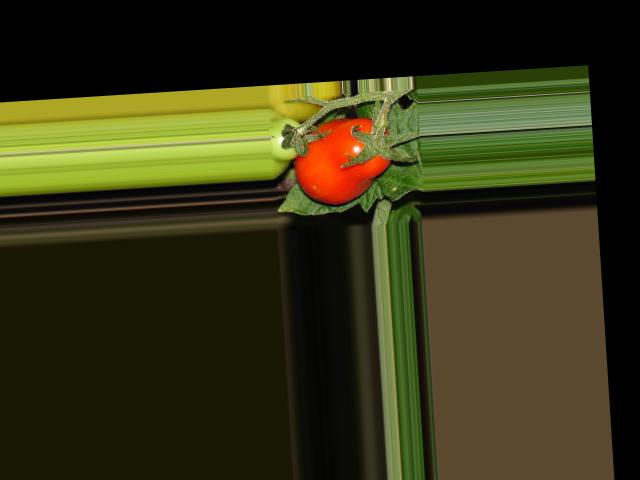tomato: (292, 116, 395, 207)
